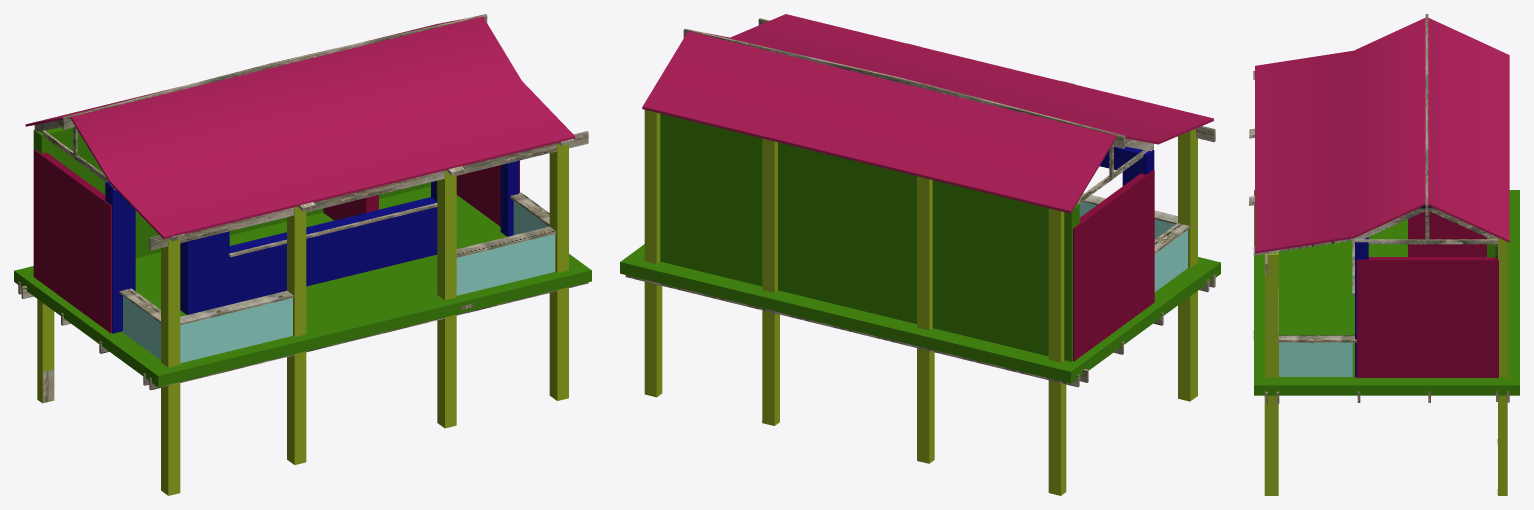
File: JungleHut01.DAE
3 views of the same model, side by side, from view 1: azimuth 30°, elevation 25°; view 2: azimuth 150°, elevation 25°; view 3: azimuth 270°, elevation 25° (orthographic). The views are drawn at different scales.
Parts seen in each view (by area): view 1: colbox-15, colbox-1, colbox-14, JungleHutOne256, colbox-10, colbox-2, colbox-4, colbox-3, colbox-5, colbox-18, colbox-17, colbox-19 (+5 smaller); view 2: colbox-15, colbox-19, colbox-1, colbox-10, JungleHutOne256, colbox-9, colbox-6, colbox-7, colbox-8, colbox-2, colbox-16, colbox-14; view 3: colbox-15, colbox-11, colbox-1, JungleHutOne256, colbox-5, colbox-13, colbox-12, colbox-6, colbox-14.
Boxes of the visible parts, left/top/right/bottom form: colbox-15: left=25, top=15, right=575, bottom=238; colbox-1: left=14, top=186, right=591, bottom=387; colbox-14: left=105, top=160, right=518, bottom=333; JungleHutOne256: left=18, top=14, right=588, bottom=402; colbox-10: left=33, top=149, right=111, bottom=333; colbox-2: left=161, top=238, right=180, bottom=495; colbox-4: left=437, top=170, right=456, bottom=428; colbox-3: left=287, top=206, right=306, bottom=464; colbox-5: left=549, top=143, right=568, bottom=400; colbox-18: left=180, top=298, right=292, bottom=363; colbox-17: left=456, top=234, right=555, bottom=295; colbox-19: left=33, top=127, right=430, bottom=258; colbox-15: left=642, top=14, right=1213, bottom=213; colbox-19: left=660, top=113, right=1079, bottom=361; colbox-1: left=620, top=244, right=1220, bottom=383; colbox-10: left=1073, top=170, right=1154, bottom=361; JungleHutOne256: left=625, top=18, right=1215, bottom=421; colbox-9: left=1048, top=208, right=1066, bottom=495; colbox-6: left=644, top=110, right=662, bottom=397; colbox-7: left=762, top=138, right=779, bottom=425; colbox-8: left=917, top=176, right=934, bottom=463; colbox-2: left=1178, top=128, right=1197, bottom=401; colbox-16: left=1154, top=230, right=1187, bottom=291; colbox-14: left=1099, top=146, right=1154, bottom=185; colbox-15: left=1255, top=17, right=1509, bottom=253; colbox-11: left=1356, top=257, right=1498, bottom=377; colbox-1: left=1254, top=190, right=1519, bottom=395; JungleHutOne256: left=1249, top=14, right=1509, bottom=494; colbox-5: left=1264, top=252, right=1278, bottom=495; colbox-13: left=1279, top=342, right=1352, bottom=376; colbox-12: left=1408, top=211, right=1486, bottom=256; colbox-6: left=1498, top=237, right=1507, bottom=495; colbox-14: left=1355, top=237, right=1368, bottom=377.
Size of the model in its own units: 534 by 308 by 372.
